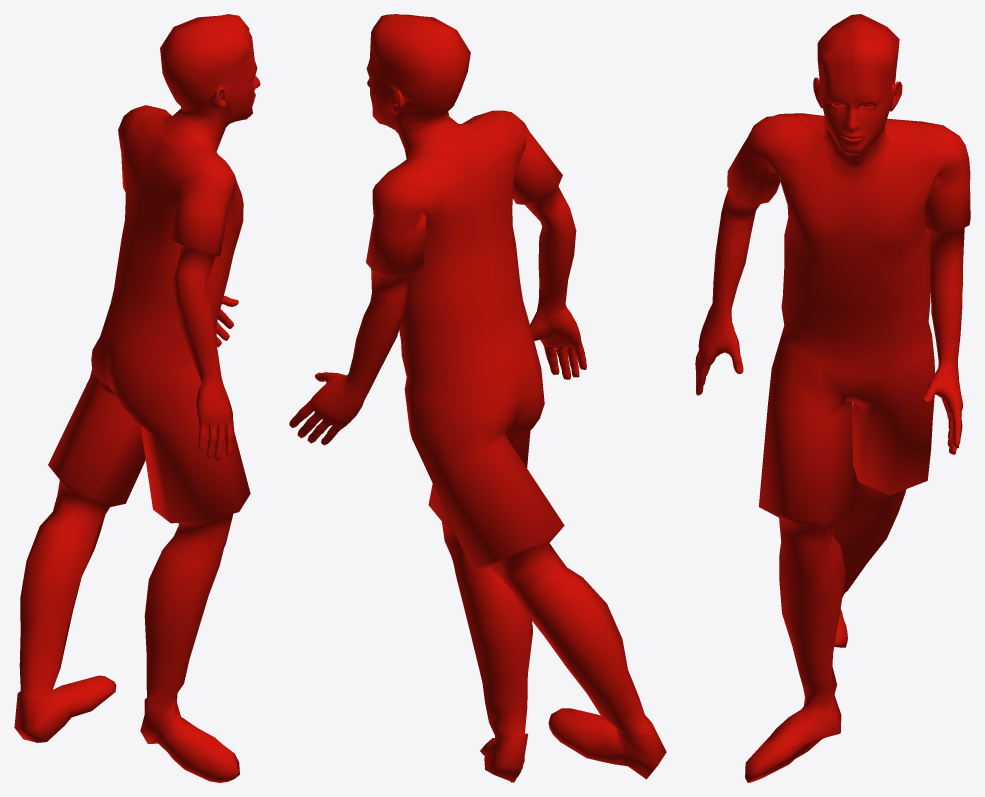
File: player_000040.obj
3 renders of one model, left to right at view 1: azimuth 30°, elevation 25°; view 2: azimuth 150°, elevation 25°; view 3: azimuth 270°, elevation 25°, orthographic. The views are drawn at different scales.
Parts seen in each view (by area): view 1: soccerplayer.002_mesh.003; view 2: soccerplayer.002_mesh.003; view 3: soccerplayer.002_mesh.003.
Boxes of the visible parts, x1,y1,x2,y2 form: soccerplayer.002_mesh.003: (14,14,260,782); soccerplayer.002_mesh.003: (289,14,666,782); soccerplayer.002_mesh.003: (695,14,970,782).
Size of the model in its own units: 1.22 by 3 by 0.9645.
